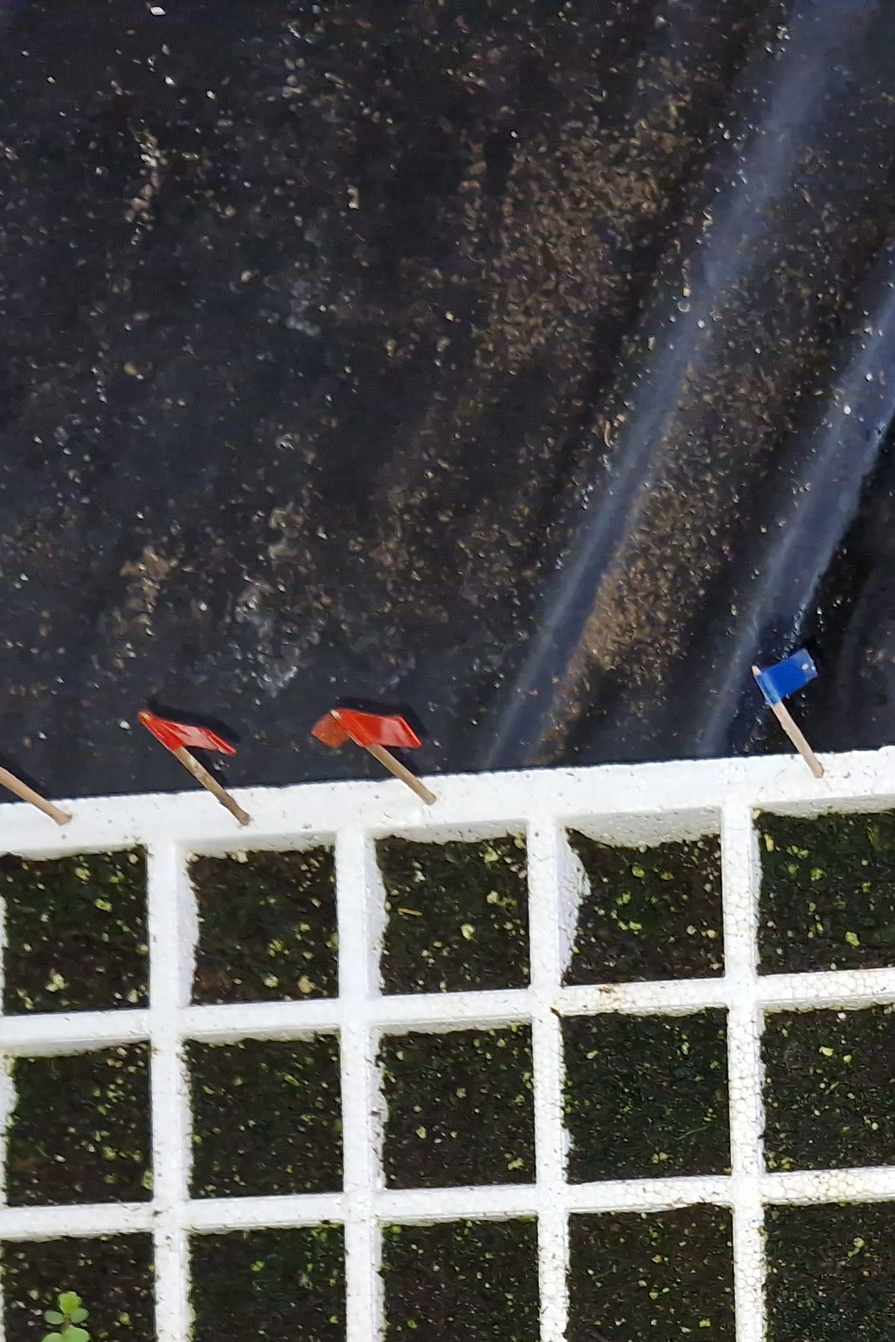Folha: (39, 1325, 91, 1342), (59, 1293, 81, 1313), (70, 1308, 89, 1323), (45, 1311, 63, 1323)
Germinacao: (40, 1292, 90, 1342)
